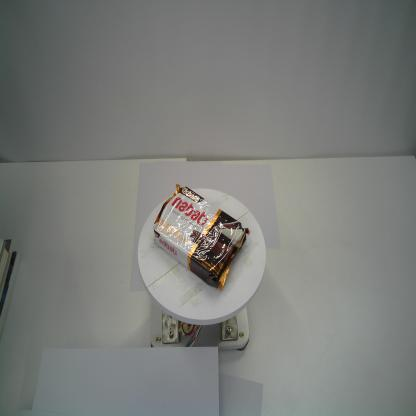Dessert: (152, 180, 250, 294)
